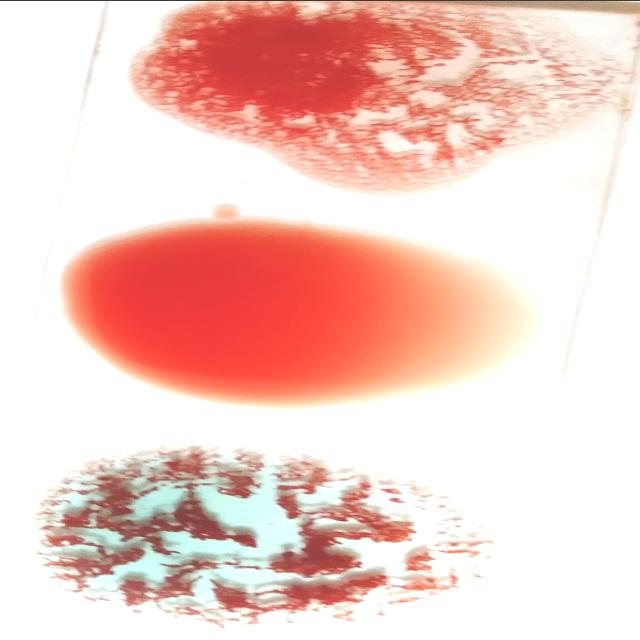A: (34, 452, 482, 622)
D: (123, 7, 610, 175)
